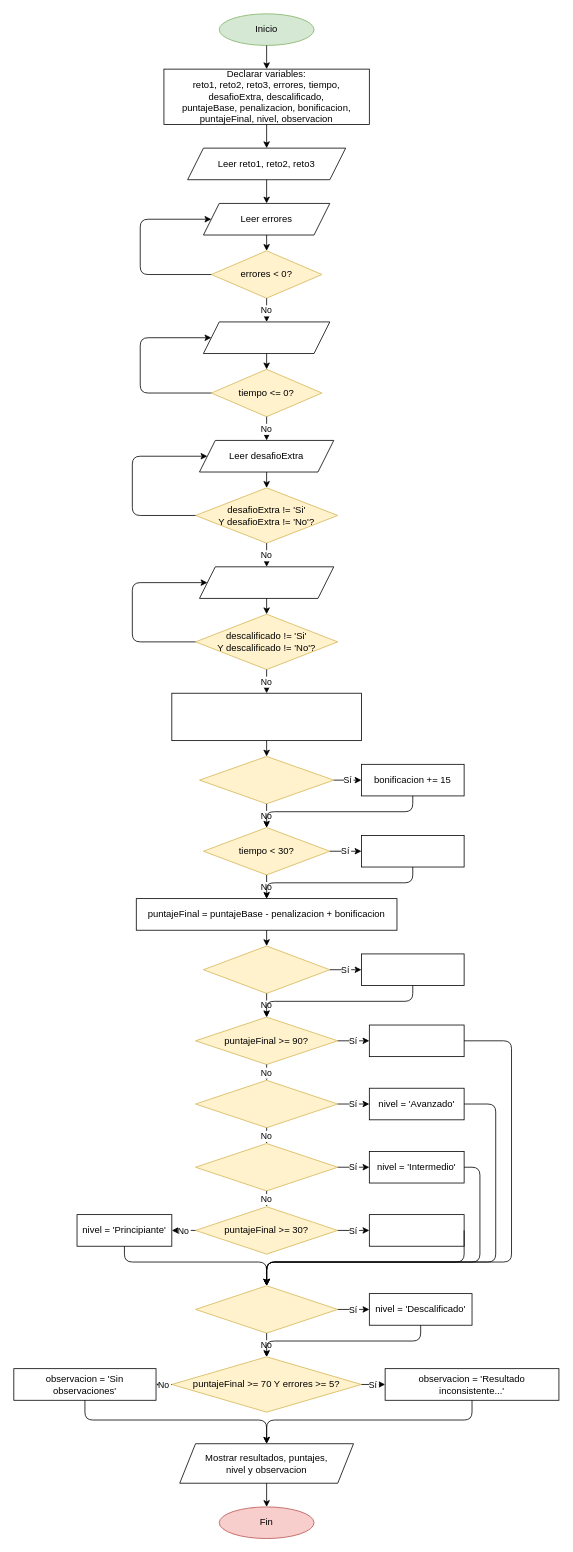
This 573x1552 diagram has some shape labels left out. The shapes that lost their labels are listed below. From the top down, each one's centre as x and y in pixels, then its label:
At pixel 266 337: "Leer tiempo".
At pixel 266 582: "Leer descalificado".
At pixel 266 716: "puntajeBase = reto1 + reto2 + reto3 penalizacion = errores * 4 bonificacion = 0".
At pixel 266 780: "desafioExtra == 'Si'?".
At pixel 412 851: "bonificacion += 10".
At pixel 266 969: "puntajeFinal < 0?".
At pixel 412 969: "puntajeFinal = 0".
At pixel 416 1040: "nivel = 'Experto'".
At pixel 266 1104: "puntajeFinal >= 70?".
At pixel 266 1167: "puntajeFinal >= 50?".
At pixel 416 1230: "nivel = 'Basico'".
At pixel 266 1309: "descalificado == 'Si'?".
